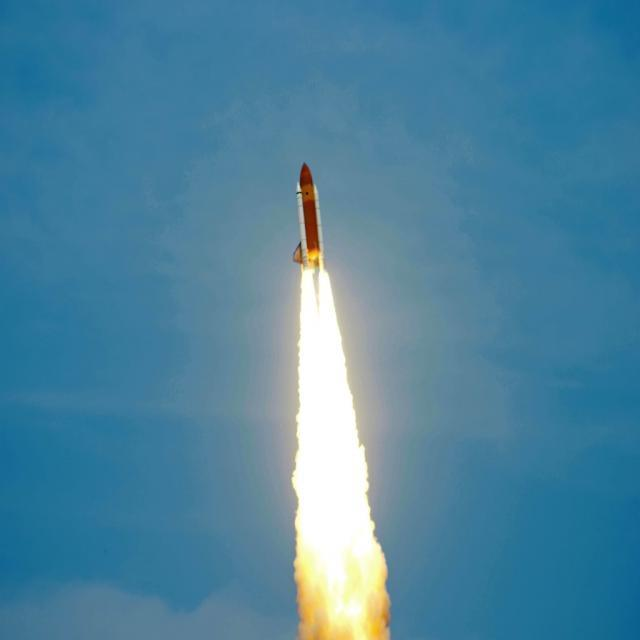missile: (290, 164, 334, 268)
